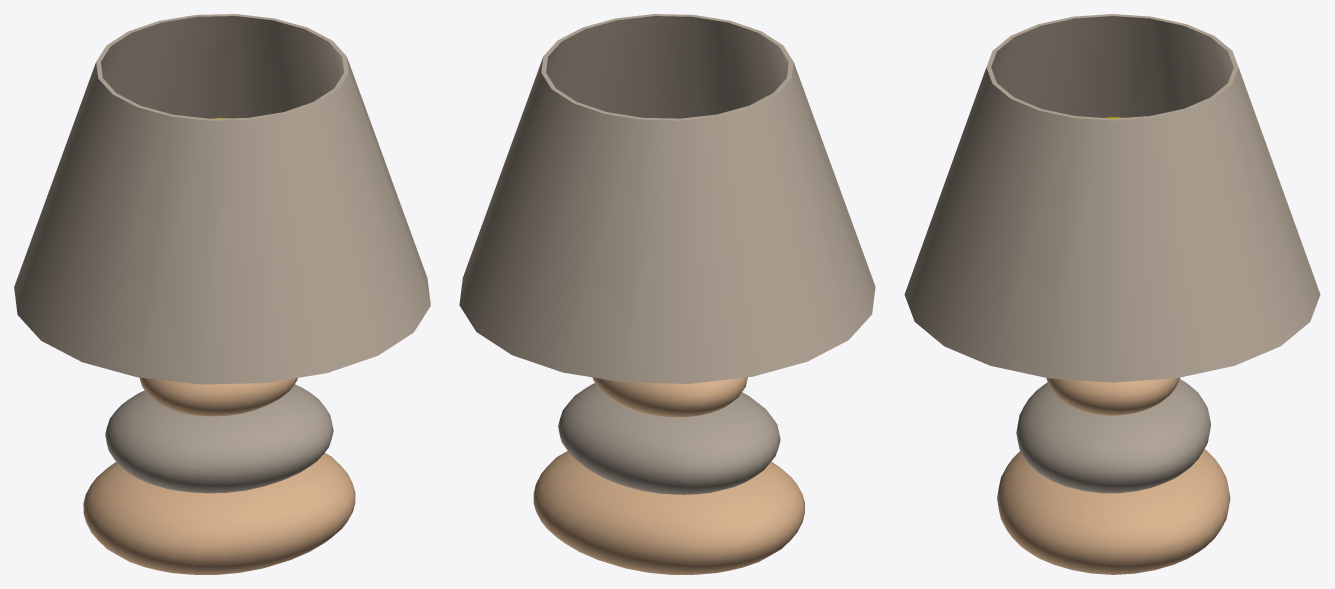
The model's file is LampeChevet4_4.fbx.
The picture shows the model from 3 angles, left to right: view 1: azimuth 30°, elevation 25°; view 2: azimuth 150°, elevation 25°; view 3: azimuth 270°, elevation 25°; orthographic projection.
Parts seen in each view (by area): view 1: pPipe113, pCube2040, pCube2042, pCube2043; view 2: pPipe113, pCube2040, pCube2042, pCube2043; view 3: pPipe113, pCube2040, pCube2042, pCube2043.
Boxes of the visible parts, x1,y1,x2,y2 form: pPipe113: (14, 14, 430, 384); pCube2040: (83, 453, 355, 574); pCube2042: (105, 384, 333, 493); pCube2043: (139, 377, 297, 416); pPipe113: (459, 14, 875, 383); pCube2040: (533, 451, 804, 574); pCube2042: (558, 383, 780, 494); pCube2043: (592, 377, 747, 417); pPipe113: (904, 14, 1320, 382); pCube2040: (997, 449, 1230, 574); pCube2042: (1016, 379, 1210, 493); pCube2043: (1046, 377, 1179, 415).
Size of the model in its own units: 15.06 by 19.14 by 15.06.
